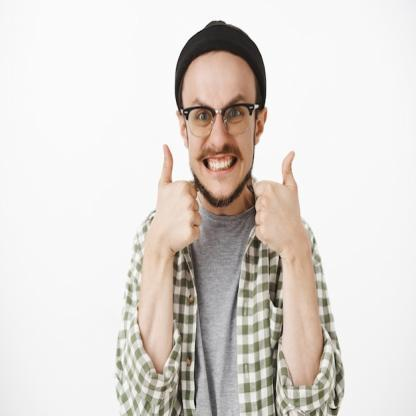thumb_up: (148, 141, 204, 251), (252, 147, 304, 253)
